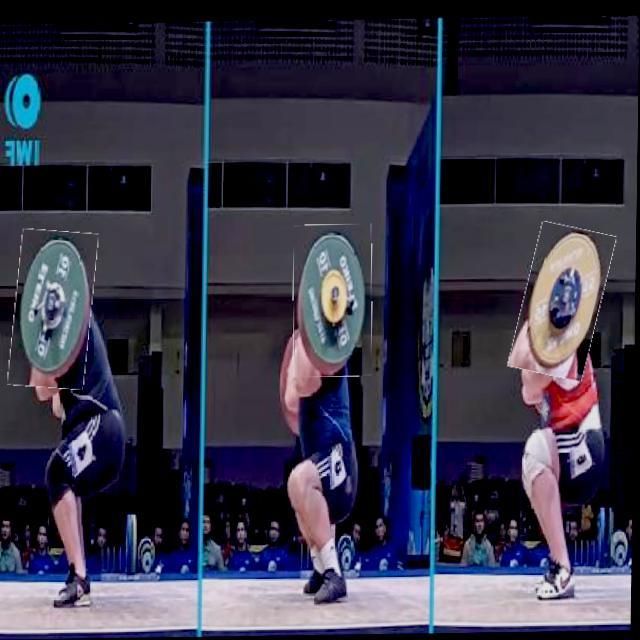barbell: (517, 226, 610, 382), (12, 230, 96, 390), (294, 227, 375, 380)
